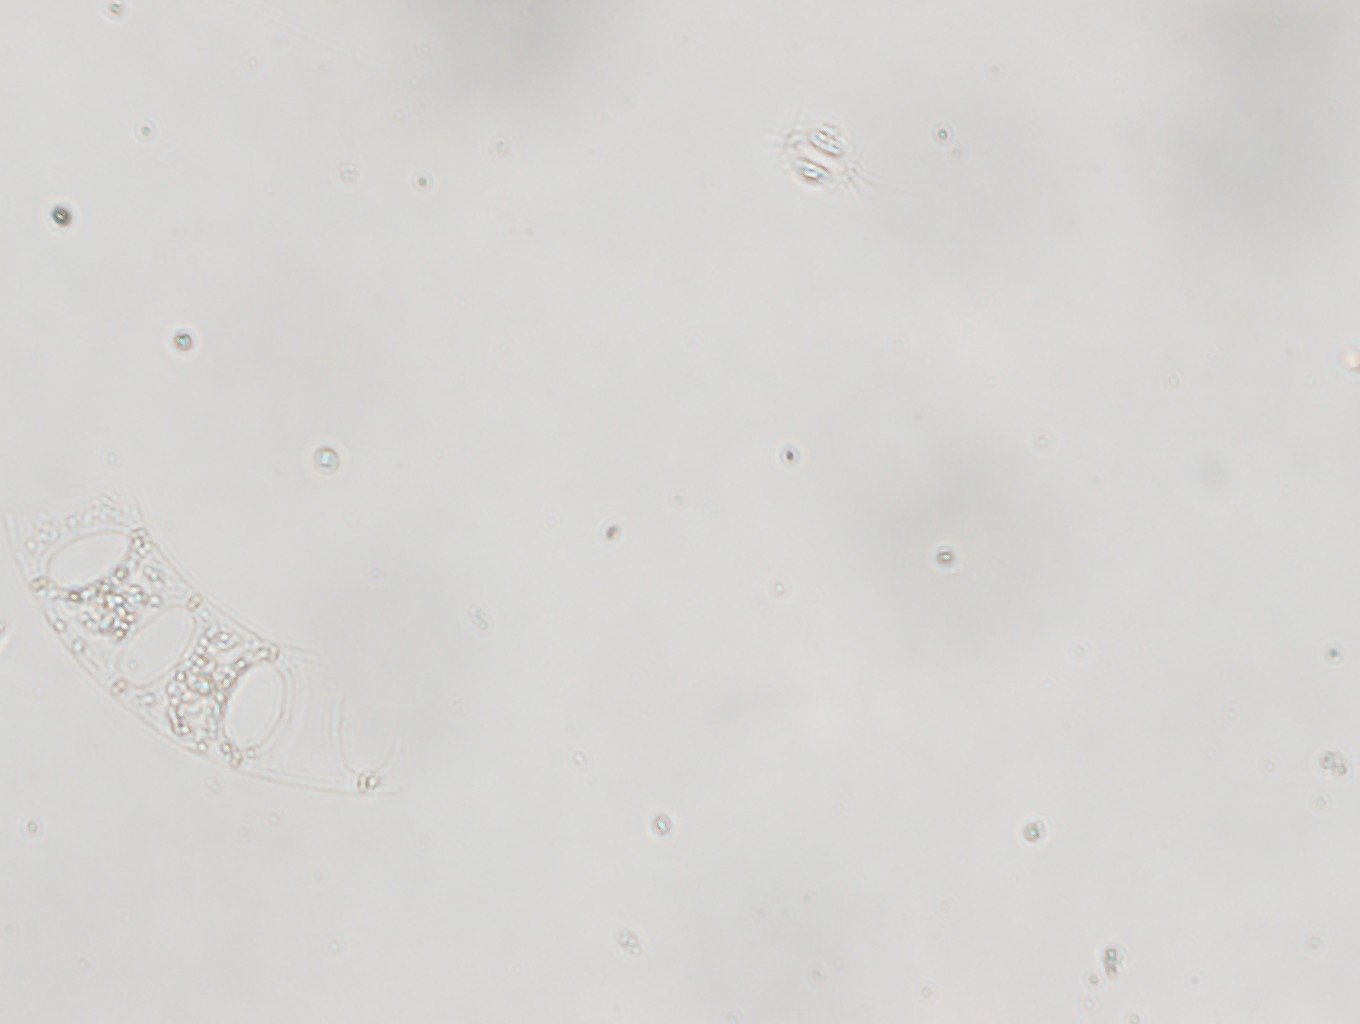eucampia: (1, 490, 412, 807)
